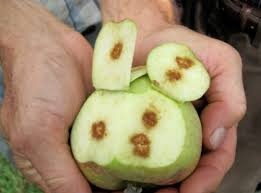damaged_apple: (71, 32, 209, 188)
